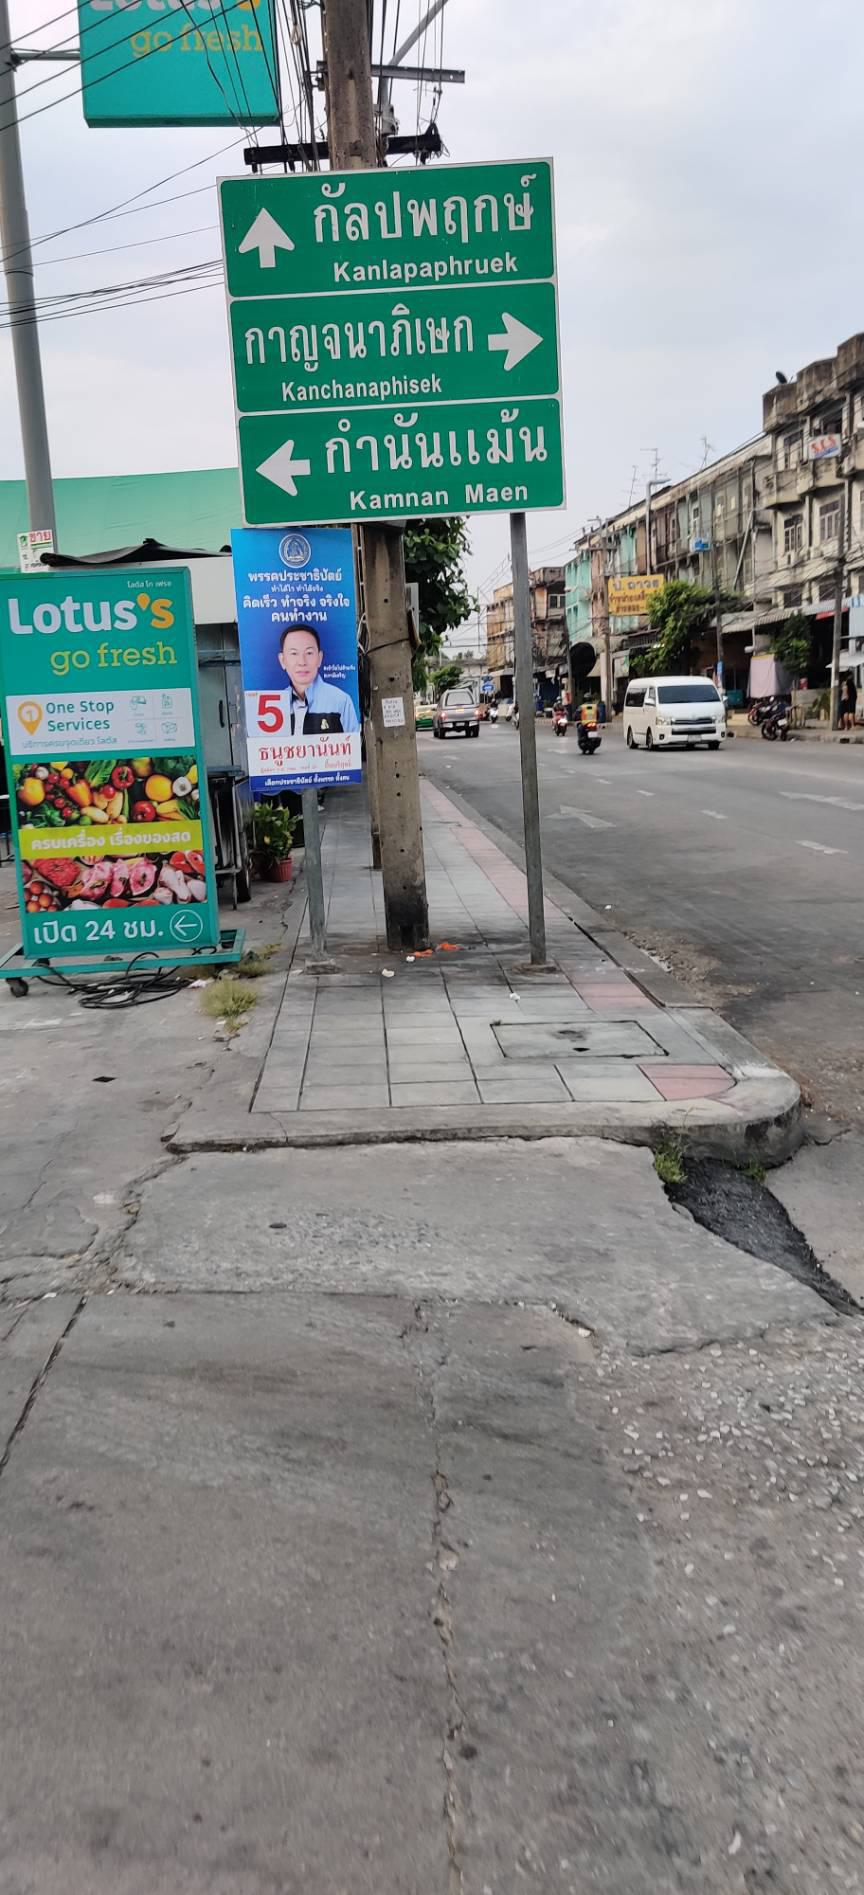Banner: (230, 522, 373, 765)
